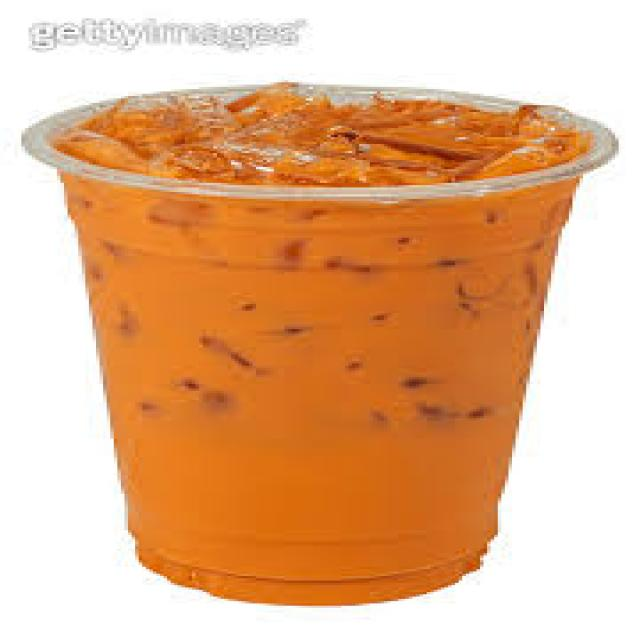cup: (28, 66, 621, 613)
